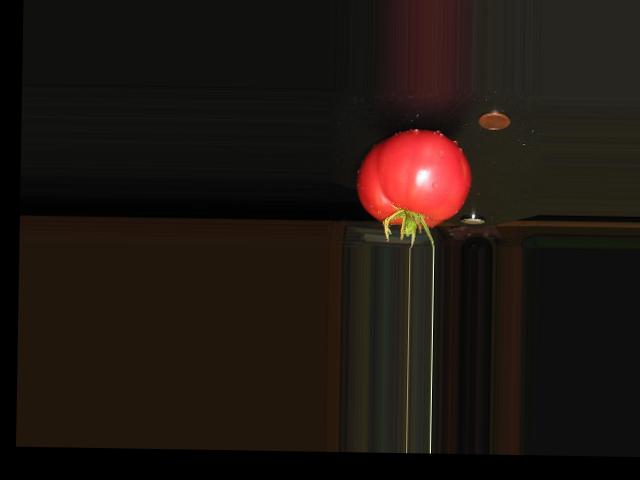tomato: (355, 127, 471, 228)
